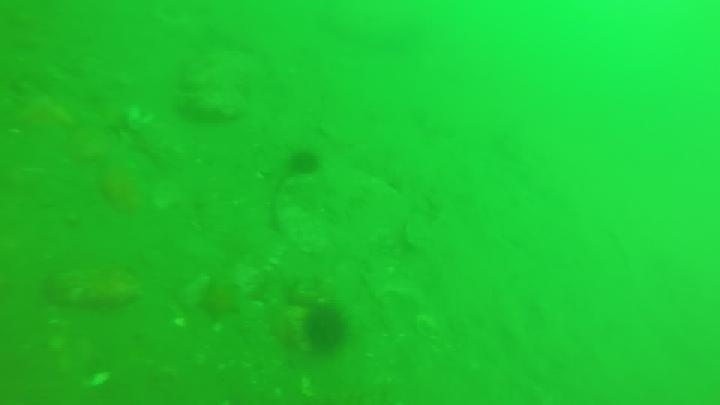echinus: (301, 303, 350, 355), (286, 148, 322, 178)
starfish: (195, 278, 244, 324)
